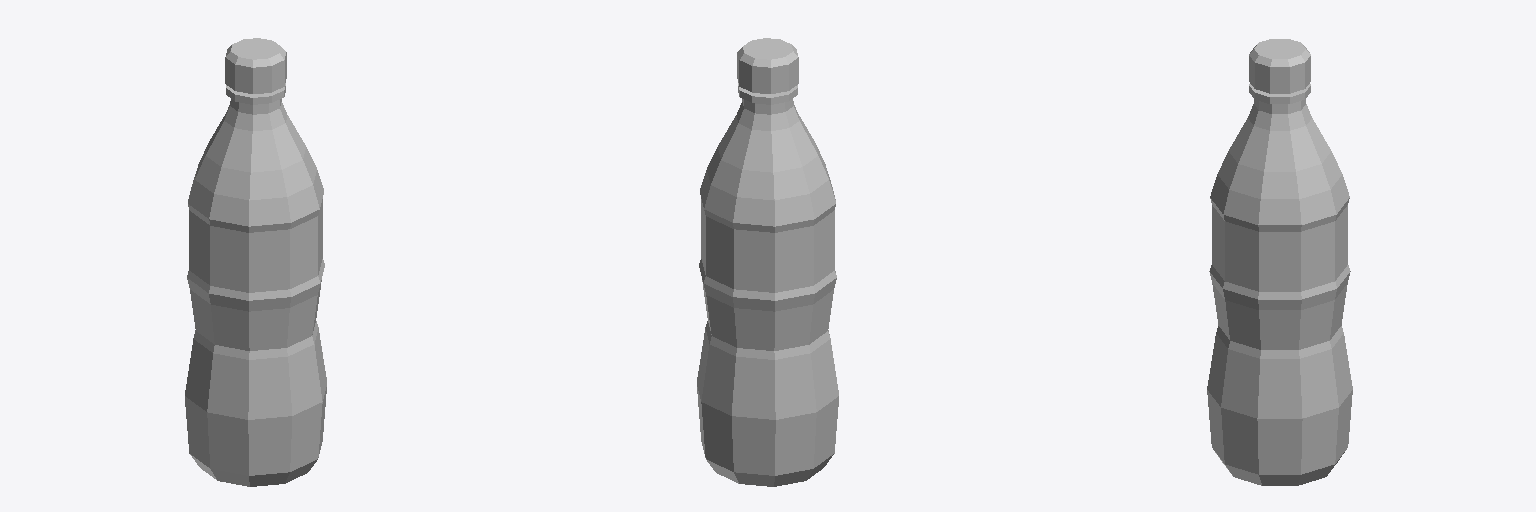
Rendered from coca_cola.obj.
3 renders of one model, left to right at view 1: azimuth 30°, elevation 25°; view 2: azimuth 150°, elevation 25°; view 3: azimuth 270°, elevation 25°, orthographic.
Visible parts, largest first — view 1: coca_cola_tri_Cylinder; view 2: coca_cola_tri_Cylinder; view 3: coca_cola_tri_Cylinder.
Part boxes in pixels (x1,y1,x2,y2): coca_cola_tri_Cylinder: (185,38,326,486); coca_cola_tri_Cylinder: (697,38,838,486); coca_cola_tri_Cylinder: (1207,39,1352,485).
Bounding box in the file's own units: 0.9549 × 3.14 × 1.